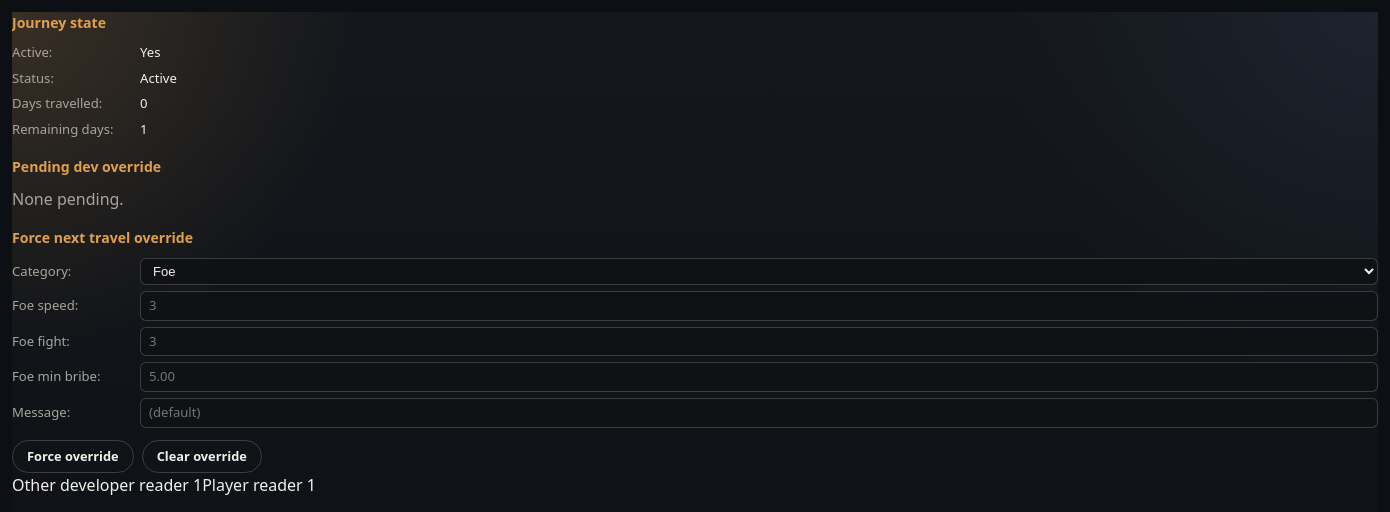
Test case: developer command resource refresh › refreshes another developer panel and player readers after a travel command
Expected: the text "Other developer reader 1" is shown, [12,474,202,496]
Expected: the text "Player reader 1" is shown, [202,474,316,496]
Click the button "Force override": (73, 456) [12,440,134,473]
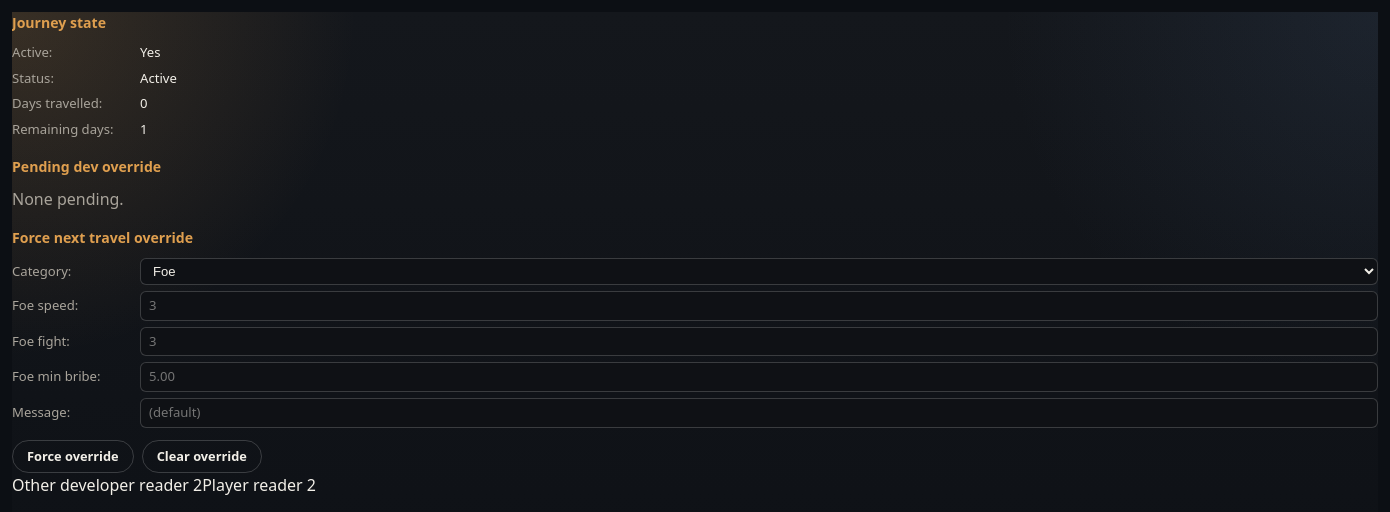
Result: the text "Other developer reader 2" is shown at [12,474,202,496]
Result: the text "Player reader 2" is shown at [202,474,316,496]
